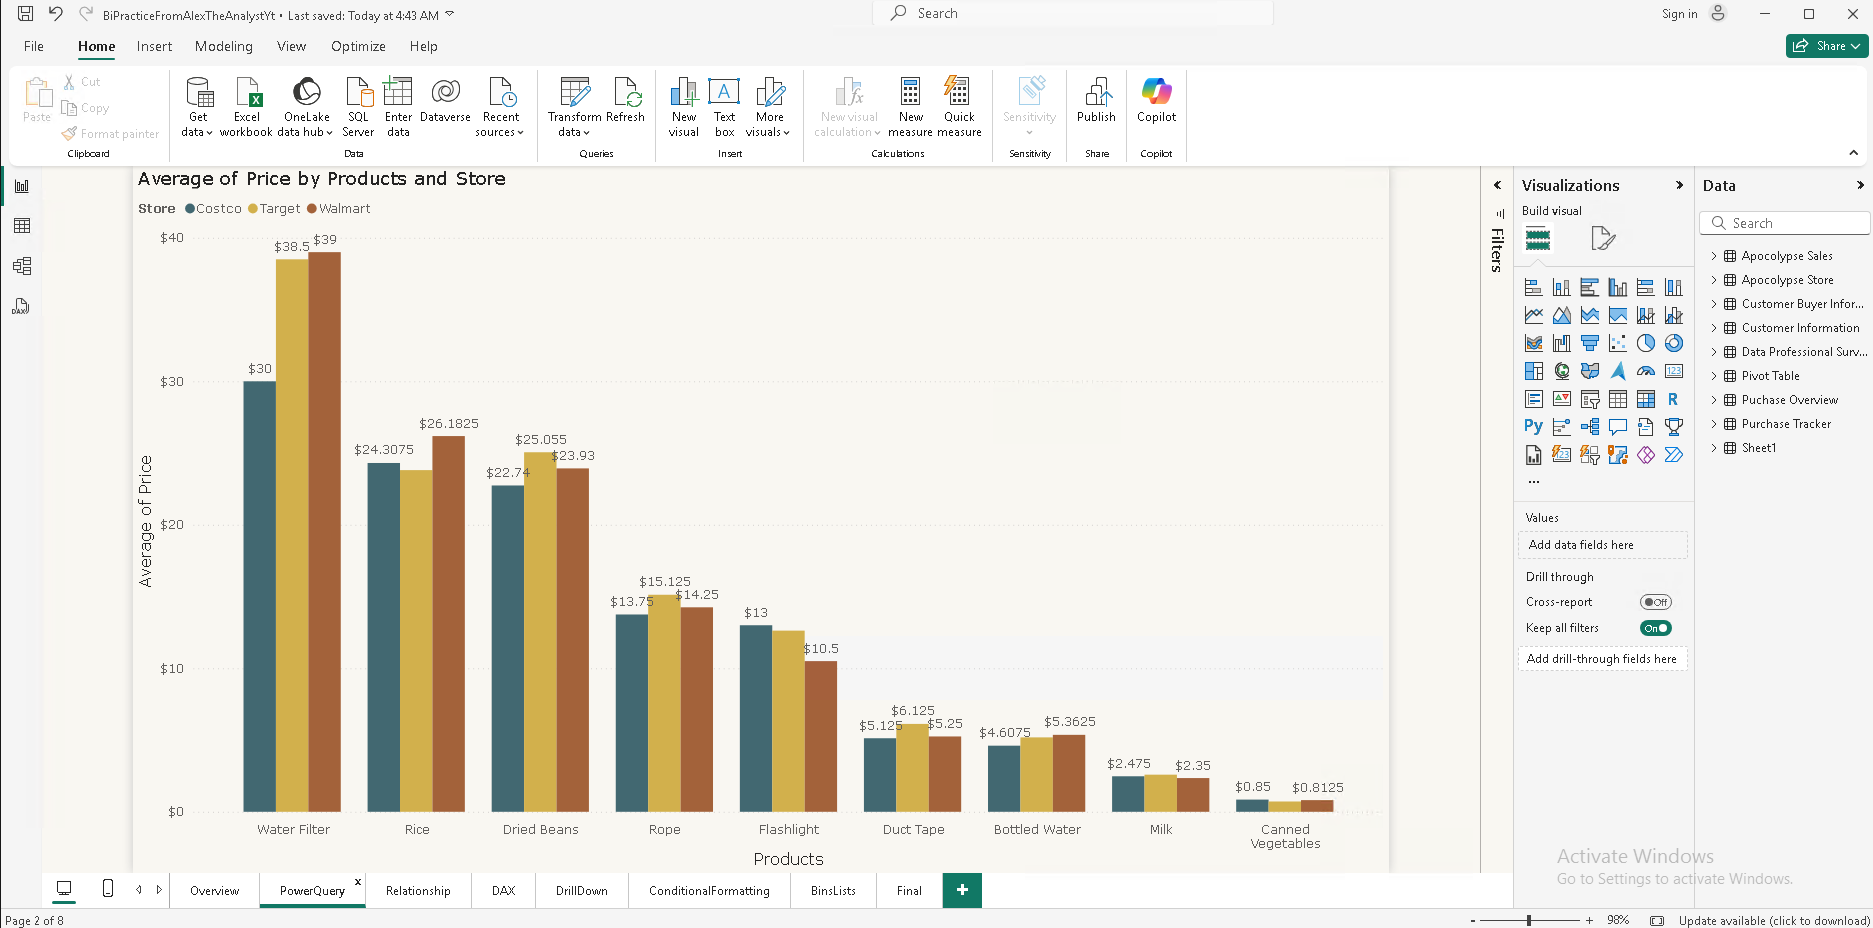

The dashboard page shown, as its layout file describes it:
{"tool":"powerbi","page":{"name":"PowerQuery","canvas":[1280,720],"ordinal":1},"visuals":[{"type":"clusteredColumnChart","fields":{"Y":["Sum(Puchase Overview.Price)"],"Category":["Puchase Overview.Products"],"Series":["Puchase Overview.Store"]},"box":[0,0,1280.1,720],"z":0}]}

Visuals, with their boxes on the page's 1280x720 design canvas (x1, y1, x2, y2). These are canvas units, not pixel positions in the 1873x928 screenshot, which may show the page scaled, cropped or inside an application window:
clusteredColumnChart - Sum(Puchase Overview.Price) x Puchase Overview.Products: (x1=0, y1=0, x2=1280, y2=720)
